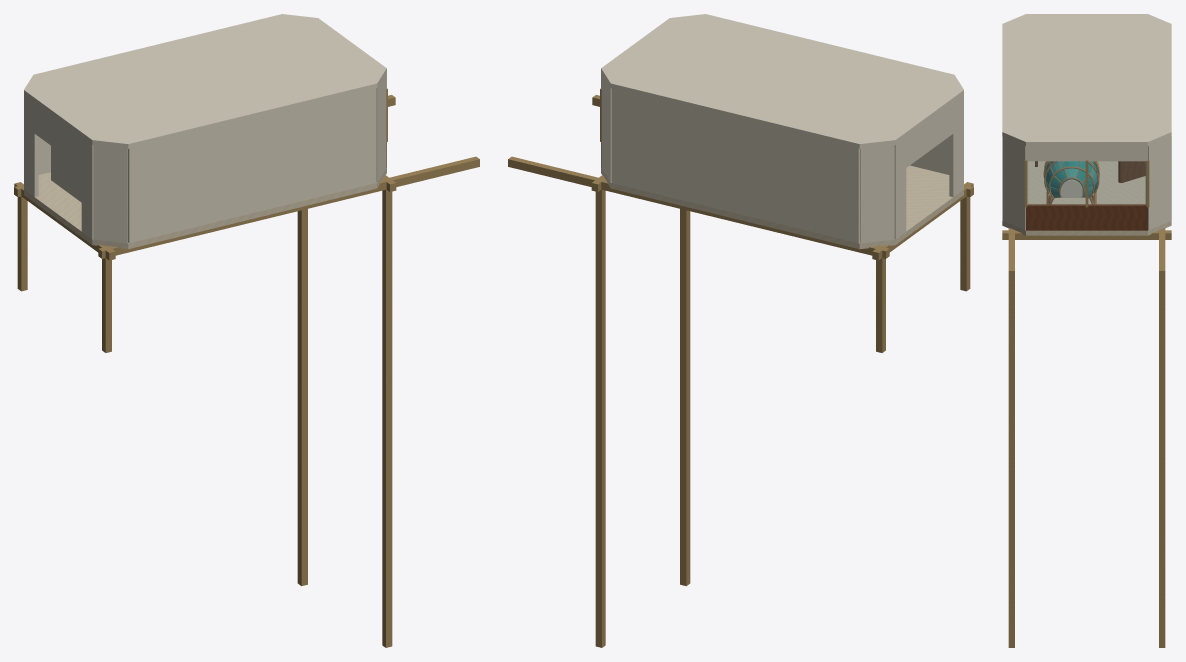
File: D04_STARBOARD_FORWARD_HOME_907_r001.glb
3 renders of one model, left to right at view 1: azimuth 30°, elevation 25°; view 2: azimuth 150°, elevation 25°; view 3: azimuth 270°, elevation 25°, orthographic. The views are drawn at different scales.
Parts seen in each view (by area): view 1: D04SH907_Roof, D04SH907_Shell_3, D04SH907_Pier_10, D04SH907_Pier_9, D04SH907_Floor, D04SH907_Shell_4, D04SH907_FloorCross_1, D04SH907_EntryHeader, D04SH907_EntryWall_0, D04SH907_EntryWall_1, D04SH907_BathDogleg, D04SH907_Shell_2 (+2 smaller); view 2: D04SH907_Roof, D04SH907_Shell_7, D04SH907_Pier_9, D04SH907_Floor, D04SH907_Pier_10, D04SH907_Shell_6, D04SH907_FloorCross_0, D04SH907_EntryHeader, D04SH907_EntryWall_1, D04SH907_EntryWall_0, D04SH907_Shell_0, D04SH907_Pier_12 (+2 smaller); view 3: D04SH907_Roof, D04SH907_GardenGlass, D04SH907_Floor, D04SH907_GardenDado, D04SH907_Pier_10, D04SH907_Pier_9, D04SH907_Shell_0, D04SH907_Shell_2, D04SH907_GardenHead, D04SH907_Long_-58.650000000000006, D04SH907_QuietWing, D04SH907_ReservedCocoon__Rear ivory acoustic diffuser (+2 smaller).
Boxes of the visible parts, left/top/right/bottom form: D04SH907_Roof: left=24, top=14, right=386, bottom=148; D04SH907_Shell_3: left=128, top=88, right=376, bottom=243; D04SH907_Pier_10: left=382, top=178, right=392, bottom=647; D04SH907_Pier_9: left=297, top=209, right=307, bottom=586; D04SH907_Floor: left=24, top=168, right=386, bottom=249; D04SH907_Shell_4: left=93, top=145, right=127, bottom=243; D04SH907_FloorCross_1: left=98, top=156, right=479, bottom=258; D04SH907_EntryHeader: left=34, top=103, right=81, bottom=167; D04SH907_EntryWall_0: left=24, top=95, right=38, bottom=196; D04SH907_EntryWall_1: left=81, top=137, right=93, bottom=239; D04SH907_BathDogleg: left=51, top=146, right=81, bottom=202; D04SH907_Shell_2: left=376, top=74, right=386, bottom=182; D04SH907_Roof: left=601, top=14, right=963, bottom=148; D04SH907_Shell_7: left=611, top=88, right=859, bottom=243; D04SH907_Pier_9: left=595, top=178, right=605, bottom=647; D04SH907_Floor: left=601, top=165, right=963, bottom=249; D04SH907_Pier_10: left=680, top=209, right=690, bottom=586; D04SH907_Shell_6: left=860, top=145, right=894, bottom=243; D04SH907_FloorCross_0: left=508, top=156, right=889, bottom=258; D04SH907_EntryHeader: left=906, top=103, right=953, bottom=167; D04SH907_EntryWall_1: left=949, top=95, right=963, bottom=196; D04SH907_EntryWall_0: left=894, top=137, right=906, bottom=239; D04SH907_Shell_0: left=601, top=74, right=611, bottom=182; D04SH907_Pier_12: left=960, top=184, right=970, bottom=291; D04SH907_Roof: left=1002, top=14, right=1171, bottom=146; D04SH907_GardenGlass: left=1028, top=161, right=1145, bottom=205; D04SH907_Floor: left=1002, top=161, right=1171, bottom=235; D04SH907_GardenDado: left=1026, top=204, right=1147, bottom=230; D04SH907_Pier_10: left=1008, top=231, right=1014, bottom=647; D04SH907_Pier_9: left=1159, top=231, right=1165, bottom=647; D04SH907_Shell_0: left=1145, top=136, right=1170, bottom=230; D04SH907_Shell_2: left=1003, top=136, right=1028, bottom=230; D04SH907_GardenHead: left=1026, top=146, right=1147, bottom=161; D04SH907_Long_-58.650000000000006: left=1002, top=230, right=1171, bottom=239; D04SH907_QuietWing: left=1118, top=161, right=1145, bottom=182; D04SH907_ReservedCocoon__Rear ivory acoustic diffuser: left=1060, top=179, right=1082, bottom=197.
Size of the model in its own units: 16.55 by 23.86 by 7.2.
36 materials, 21 textured.
